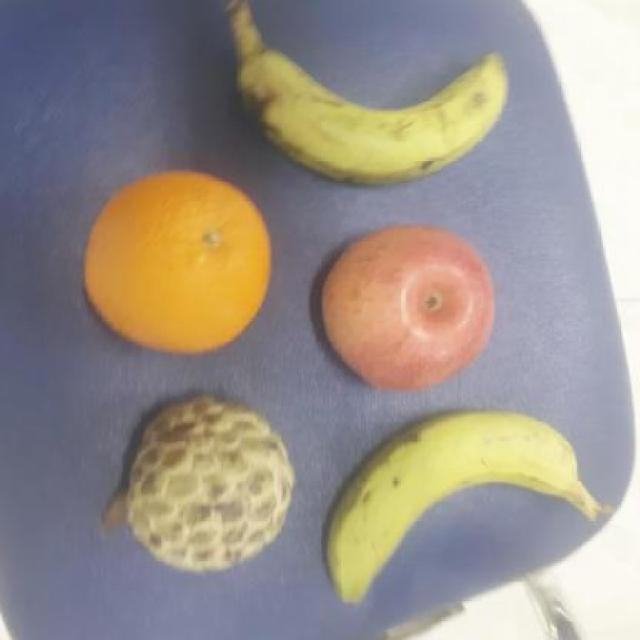apple: (316, 221, 496, 398)
banana: (322, 405, 600, 602), (233, 37, 516, 194)
oren: (81, 170, 275, 356)
sugar apple: (119, 395, 296, 577)
